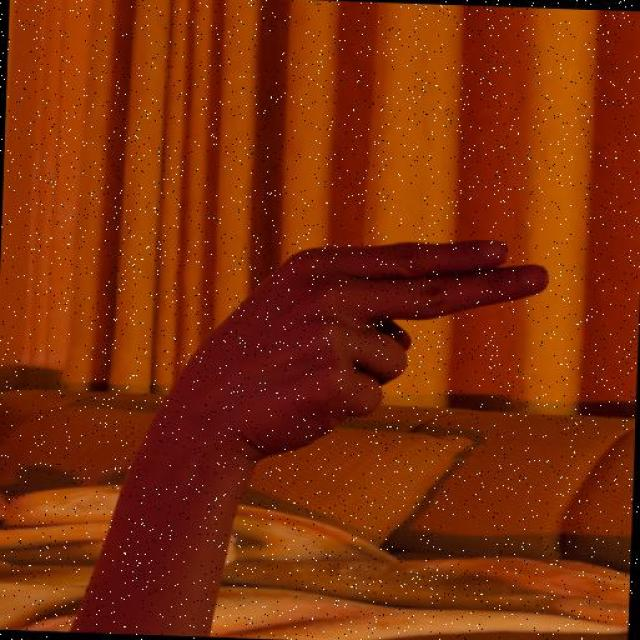H: (133, 224, 556, 472)
